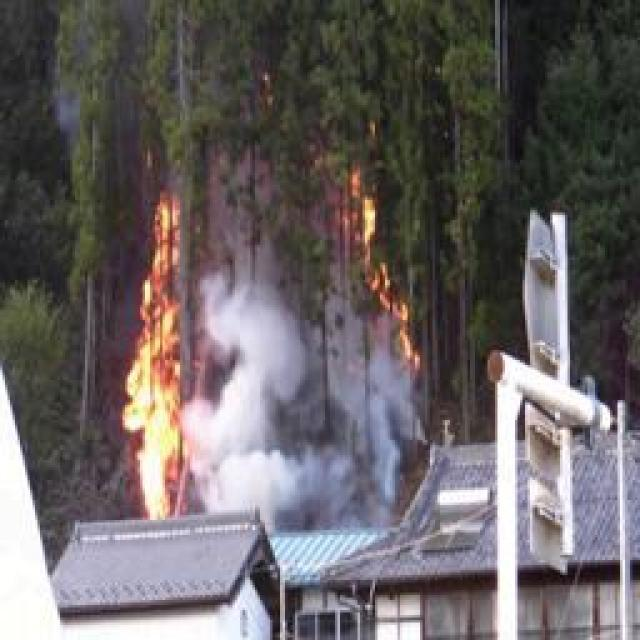Fire: (115, 184, 199, 519), (324, 135, 427, 379)
Smoke: (178, 271, 426, 534)
